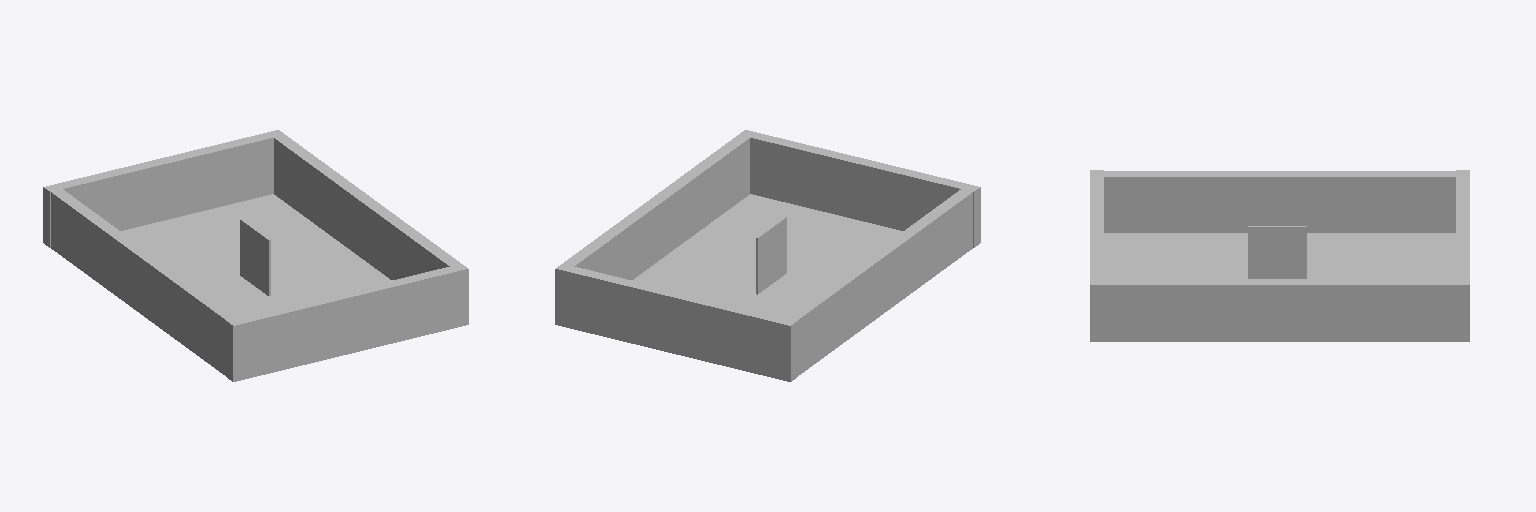
The model's file is Polygon.obj.
3 views of the same model, side by side, from view 1: azimuth 30°, elevation 25°; view 2: azimuth 150°, elevation 25°; view 3: azimuth 270°, elevation 25° (orthographic).
Parts seen in each view (by area): view 1: Плоскость_Плоскость.001, Куб.013_Куб.003, Куб, Куб.012_Куб.015, Куб.011_Куб.001, Куб.006_Куб.010; view 2: Плоскость_Плоскость.001, Куб.012_Куб.015, Куб, Куб.013_Куб.003, Куб.011_Куб.001, Куб.006_Куб.010; view 3: Куб.011_Куб.001, Куб, Плоскость_Плоскость.001, Куб.006_Куб.010, Куб.012_Куб.015, Куб.013_Куб.003.
Boxes of the visible parts, x1=… form: Плоскость_Плоскость.001: x1=121, y1=194, x2=391, y2=317; Куб.013_Куб.003: x1=226, y1=266, x2=467, y2=381; Куб: x1=45, y1=184, x2=245, y2=381; Куб.012_Куб.015: x1=43, y1=131, x2=278, y2=247; Куб.011_Куб.001: x1=269, y1=130, x2=468, y2=327; Куб.006_Куб.010: x1=240, y1=218, x2=270, y2=295; Плоскость_Плоскость.001: x1=632, y1=194, x2=902, y2=317; Куб.012_Куб.015: x1=556, y1=265, x2=797, y2=381; Куб: x1=778, y1=184, x2=977, y2=381; Куб.013_Куб.003: x1=745, y1=131, x2=980, y2=247; Куб.011_Куб.001: x1=555, y1=130, x2=756, y2=325; Куб.006_Куб.010: x1=756, y1=217, x2=786, y2=294; Куб.011_Куб.001: x1=1090, y1=279, x2=1469, y2=341; Куб: x1=1104, y1=171, x2=1455, y2=232; Плоскость_Плоскость.001: x1=1104, y1=233, x2=1455, y2=278; Куб.006_Куб.010: x1=1248, y1=226, x2=1306, y2=278; Куб.012_Куб.015: x1=1456, y1=170, x2=1469, y2=282; Куб.013_Куб.003: x1=1090, y1=170, x2=1103, y2=280.
Size of the model in its own units: 2.52 by 0.576 by 3.52.